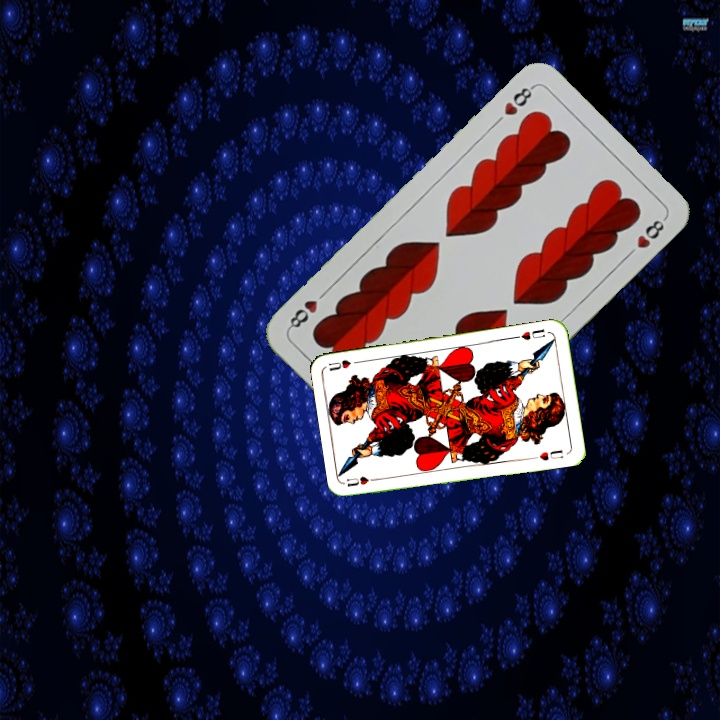H8: (500, 81, 538, 118)
HU: (342, 473, 383, 489), (517, 325, 548, 343)
